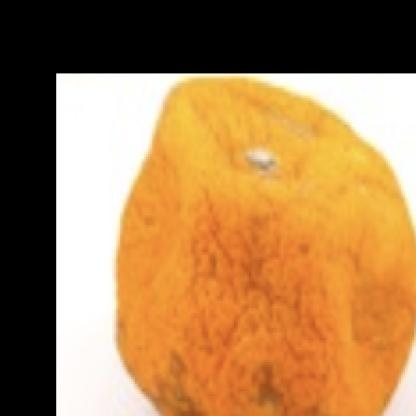rotten: (114, 73, 416, 416)
